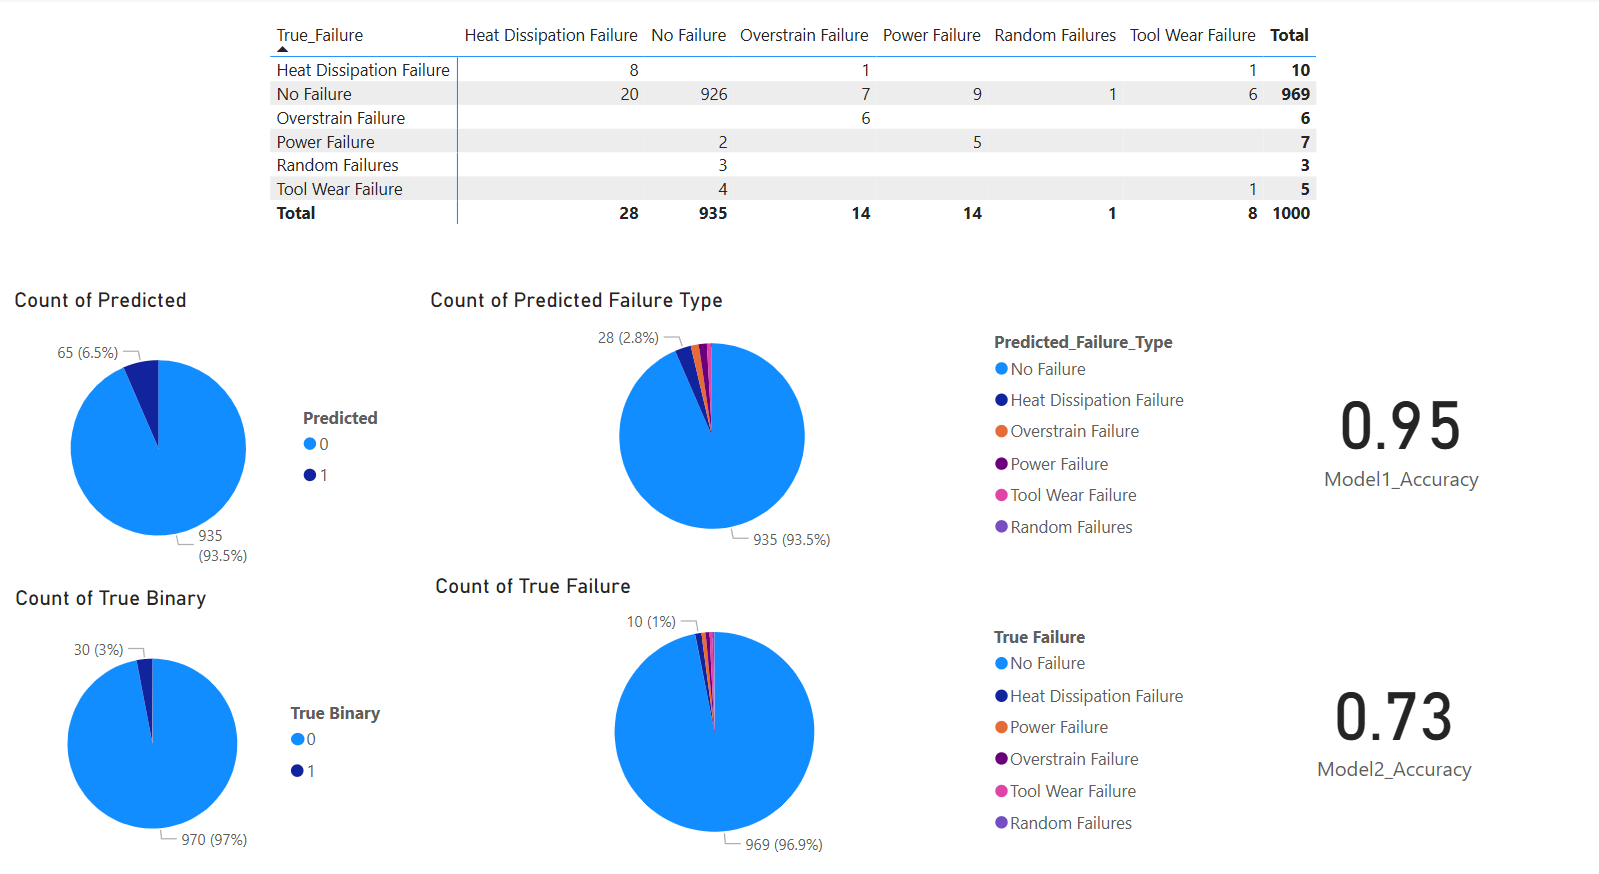

The dashboard page shown, as its layout file describes it:
{"tool":"powerbi","page":{"name":"Page 1","canvas":[1280,720],"ordinal":0},"visuals":[{"type":"card","fields":{"Values":["Output.Model1_Accuracy"]},"box":[961.7,230.3,318.3,228.6],"z":0},{"type":"card","fields":{"Values":["Output.Model2_Accuracy"]},"box":[961.7,466.6,307.1,219.1],"z":1000},{"type":"pieChart","title":"Count of Predicted ","fields":{"Category":["Output.Predicted_Failure_Binary"],"Y":["CountNonNull(Output.Predicted_Failure_Binary)"]},"box":[8.6,230.3,318.3,238.1],"z":2000},{"type":"pieChart","title":"Count of Predicted Failure Type","fields":{"Category":["Output.Predicted_Failure_Type"],"Y":["CountNonNull(Output.Predicted_Failure_Type)"]},"box":[340.7,230.3,621,219.1],"z":3000},{"type":"pieChart","title":"Count of True Binary","fields":{"Category":["Output.True_Binary"],"Y":["CountNonNull(Output.True_Binary)"]},"box":[9.5,468.4,317.4,234.6],"z":4000},{"type":"pieChart","title":"Count of True Failure","fields":{"Category":["Output.True_Failure"],"Y":["CountNonNull(Output.True_Failure)"]},"box":[345,458.9,616.7,234.6],"z":5000},{"type":"pivotTable","fields":{"Rows":["Output.True_Failure"],"Columns":["Output.Predicted_Failure_Type"],"Values":["CountNonNull(Output.Predicted_Failure_Type)"]},"box":[213,14.7,870.3,187.2],"z":6000}]}

Visuals, with their boxes in screenshot pixels (x1, y1, x2, y2), scaled from the page's 1280x720 canvas onto the 1599x874 screenshot:
card - Output.Model1_Accuracy: rect(1201, 280, 1598, 557)
card - Output.Model2_Accuracy: rect(1201, 566, 1585, 832)
"Count of Predicted " pieChart: rect(11, 280, 408, 569)
"Count of Predicted Failure Type" pieChart: rect(426, 280, 1201, 546)
"Count of True Binary" pieChart: rect(12, 569, 408, 853)
"Count of True Failure" pieChart: rect(431, 557, 1201, 842)
pivotTable - Output.True_Failure x Output.Predicted_Failure_Type: rect(266, 18, 1353, 245)
